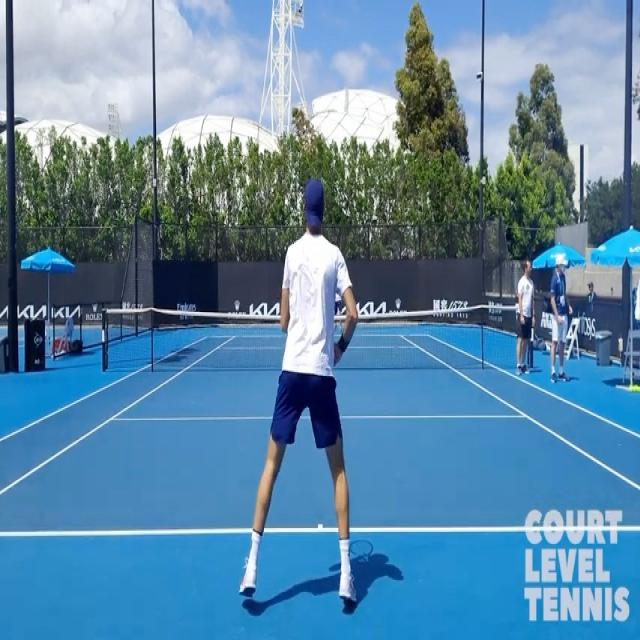ready-position: (242, 177, 368, 607)
